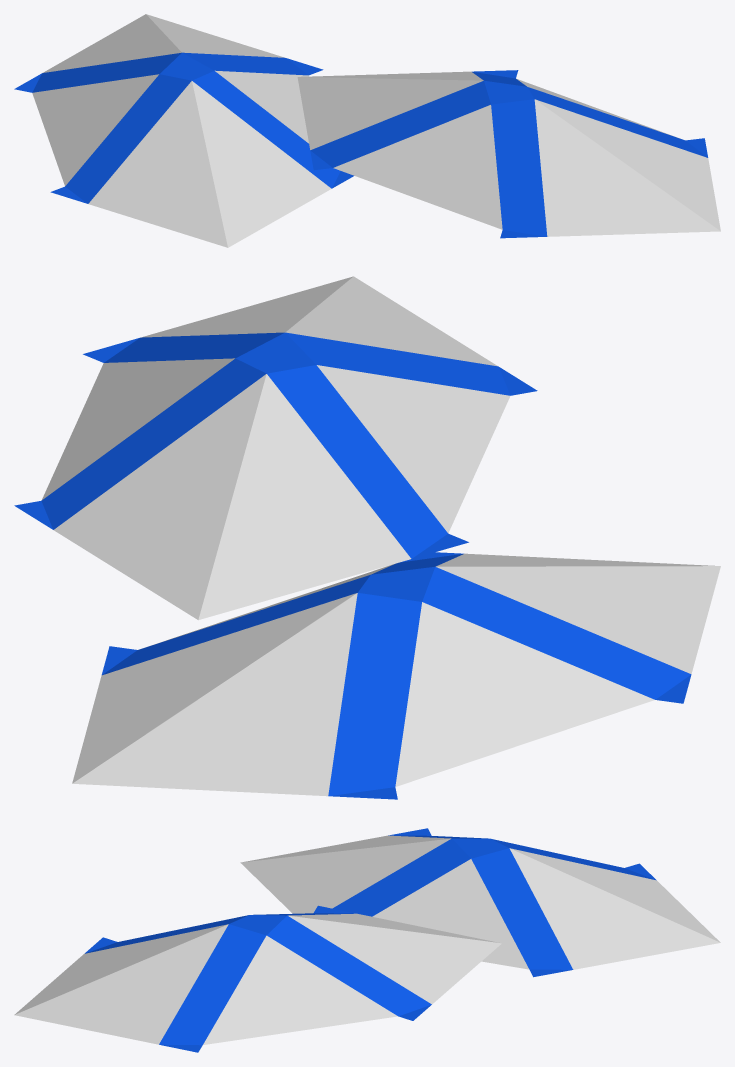
The model's file is Terrain_Gold_2.fbx.
3 views of the same model, one above another, from view 1: azimuth 30°, elevation 25°; view 2: azimuth 150°, elevation 25°; view 3: azimuth 270°, elevation 25° (orthographic). The views are drawn at different scales.
Visible parts, largest first — view 1: Terrain_Gold_2; view 2: Terrain_Gold_2; view 3: Terrain_Gold_2.
Boxes of the visible parts, left/top/right/bottom form: Terrain_Gold_2: left=14, top=14, right=720, bottom=247; Terrain_Gold_2: left=14, top=276, right=720, bottom=799; Terrain_Gold_2: left=14, top=828, right=720, bottom=1052.
Bounding box in the file's own units: 36.5 × 5.26 × 45.61.
